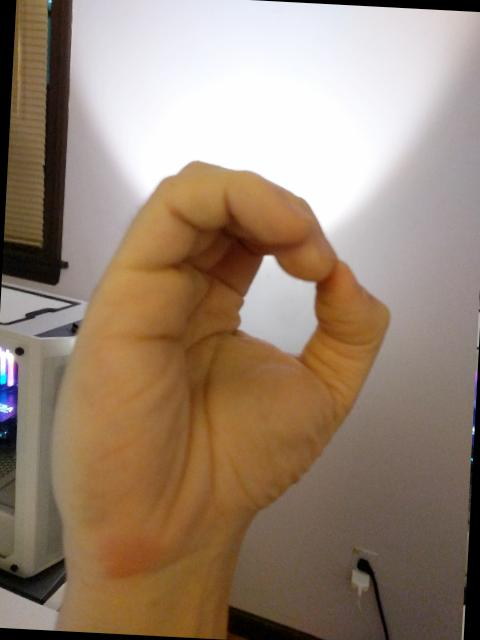O: (36, 148, 405, 590)
